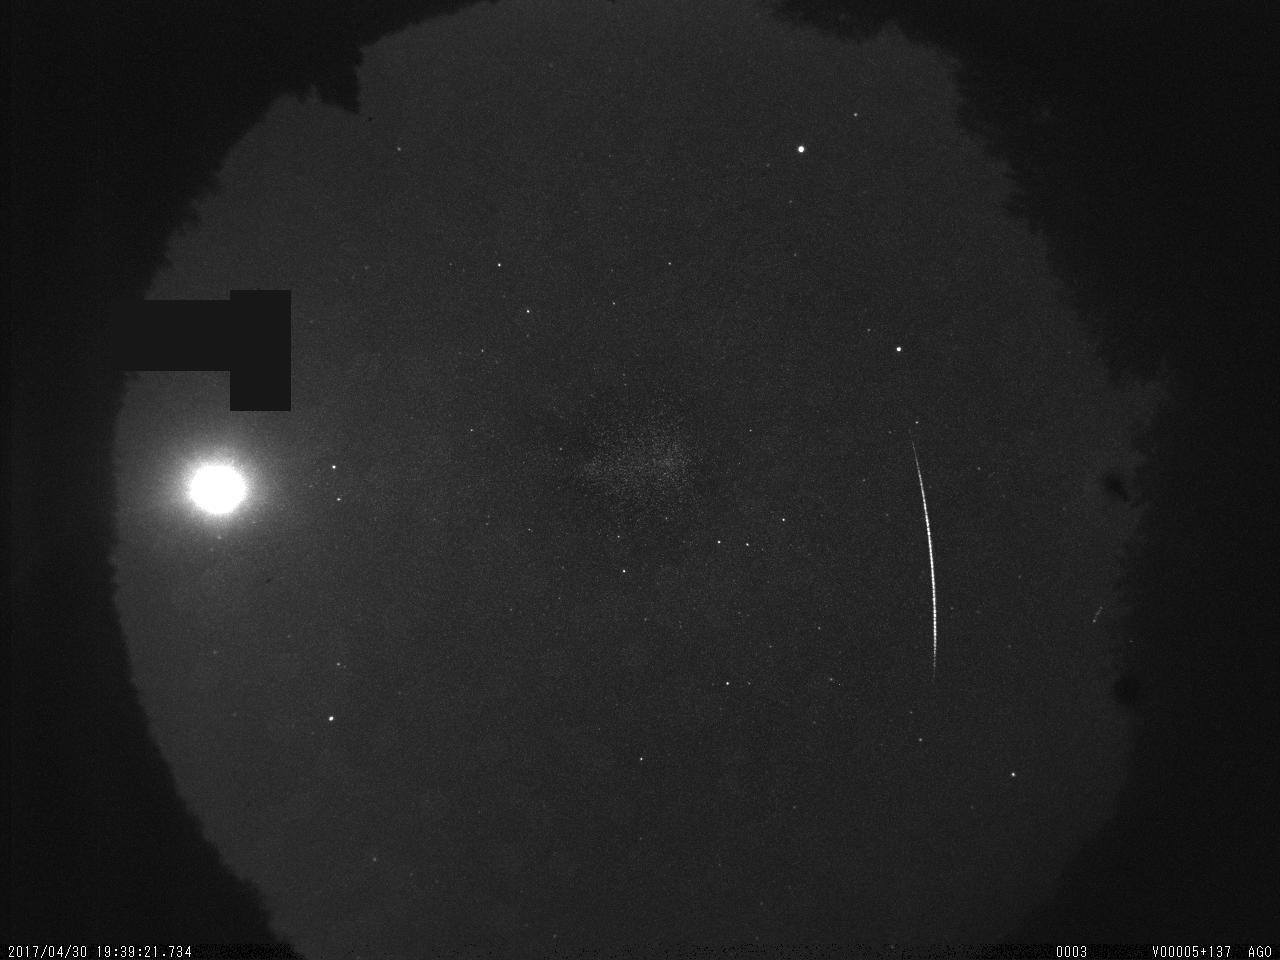meteor: (904, 435, 948, 681)
